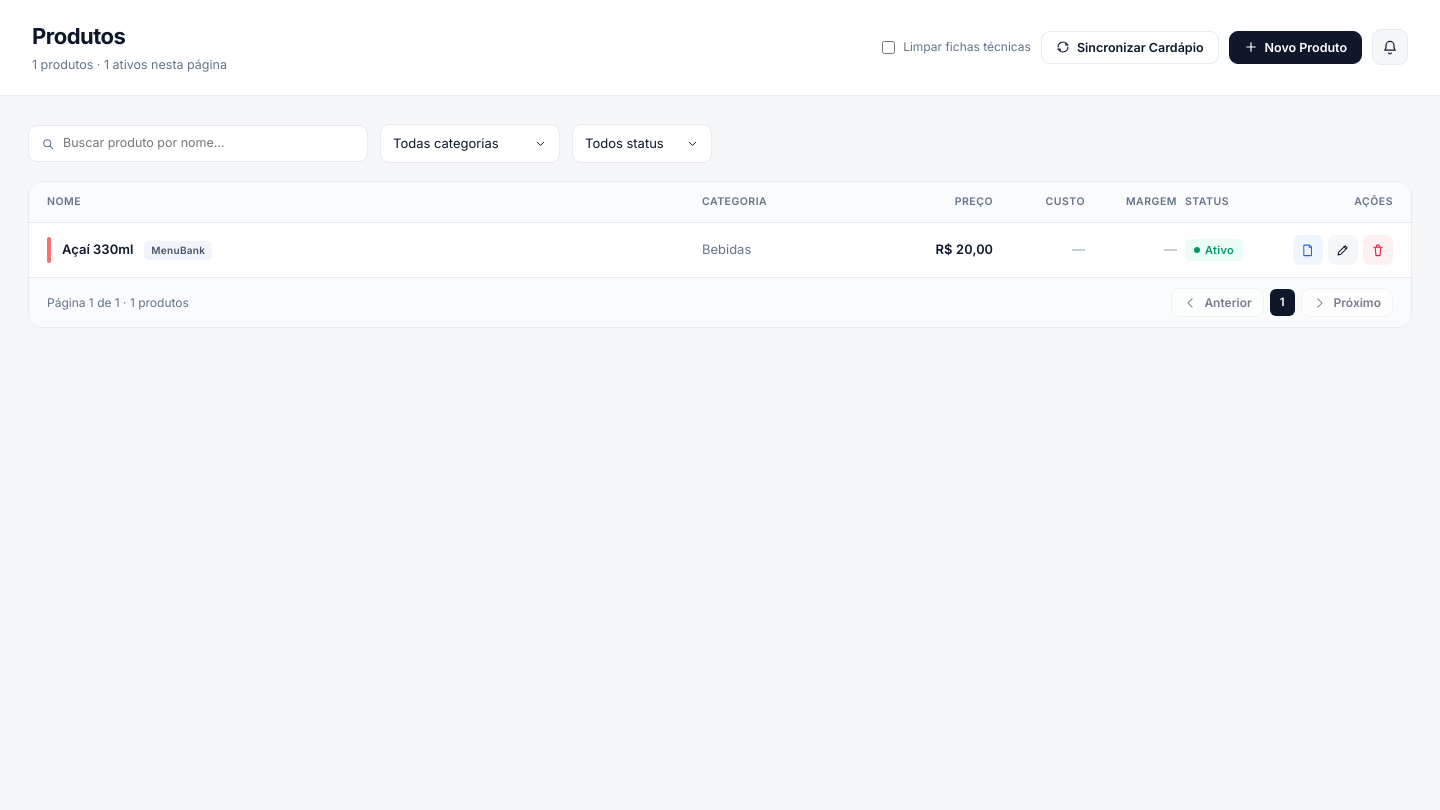
Test: ProductsView › should preselect the current category when editing a product
The image size is (1440, 810).
Click the element with test id "product-p1-edit-button". click: (1343, 250)
box: [1328,235,1358,265]
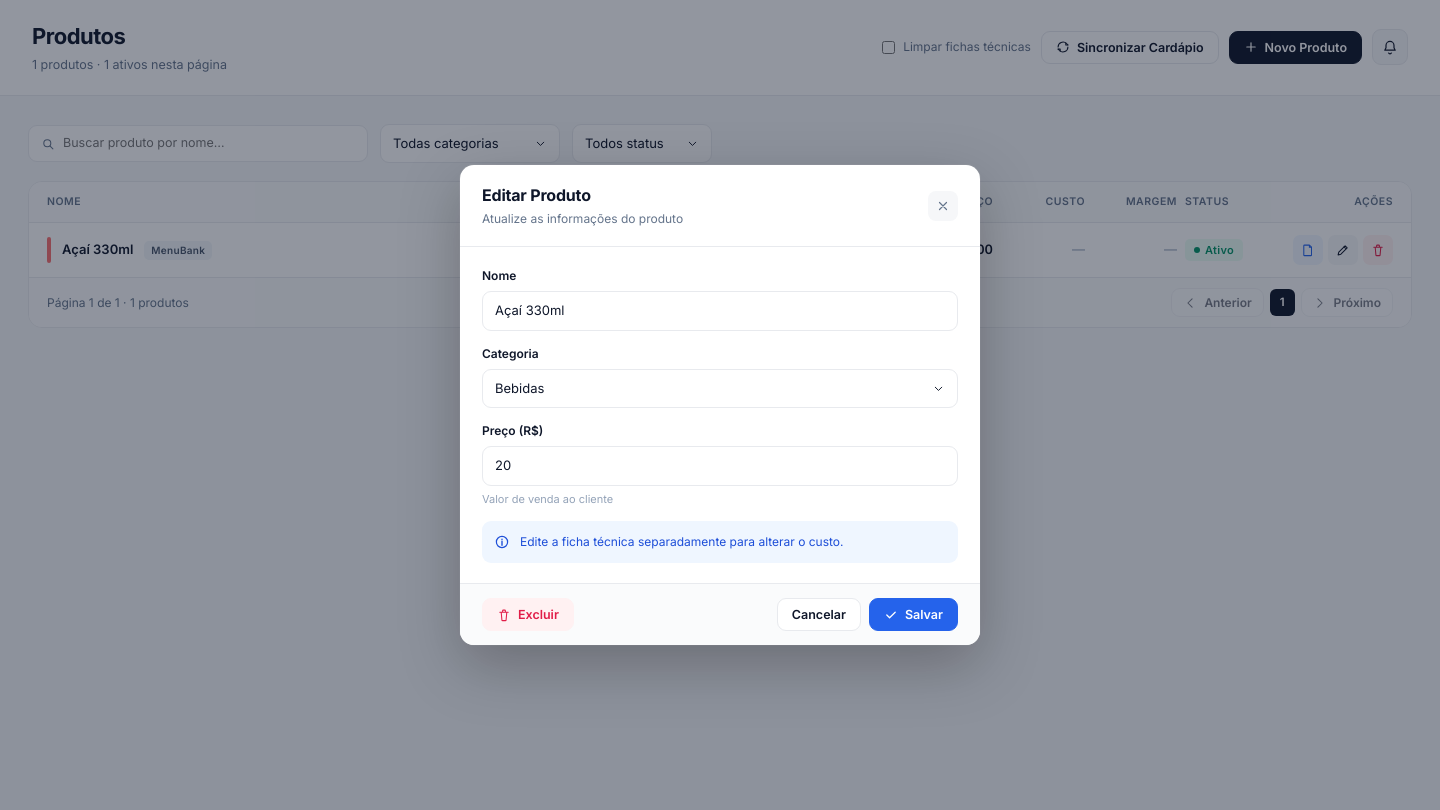
Result: the dropdown with test id "product-category-select" shows "Bebidas" at [495,374,924,402]
